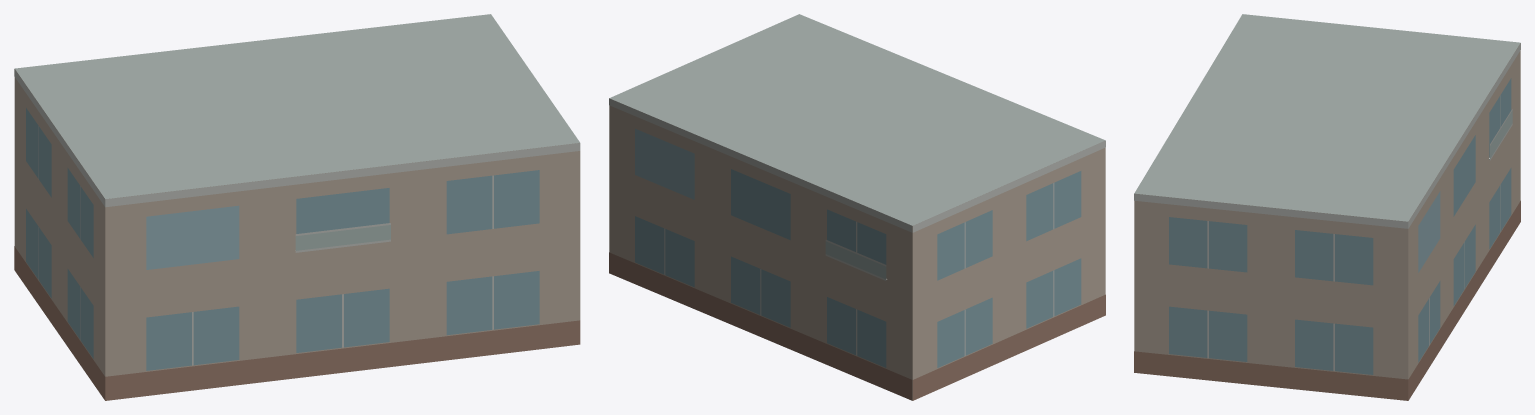
File: survey-upis-33032321.glb
The picture shows the model from 3 angles, left to right: view 1: azimuth 30°, elevation 25°; view 2: azimuth 150°, elevation 25°; view 3: azimuth 270°, elevation 25°; orthographic projection. The views are drawn at different scales.
Visible parts, largest first — view 1: survey-upis-33032321.tmp; view 2: survey-upis-33032321.tmp; view 3: survey-upis-33032321.tmp.
Part boxes in pixels (box(x1,y1,x2,y2)): survey-upis-33032321.tmp: box(14, 14, 580, 400); survey-upis-33032321.tmp: box(609, 14, 1105, 400); survey-upis-33032321.tmp: box(1134, 14, 1520, 400).
Bounding box in the file's own units: 15.18 × 6.1 × 11.94.
